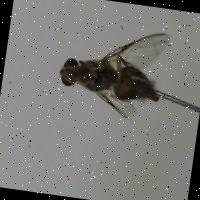Oriental-fruit-fly: (50, 12, 176, 125)
